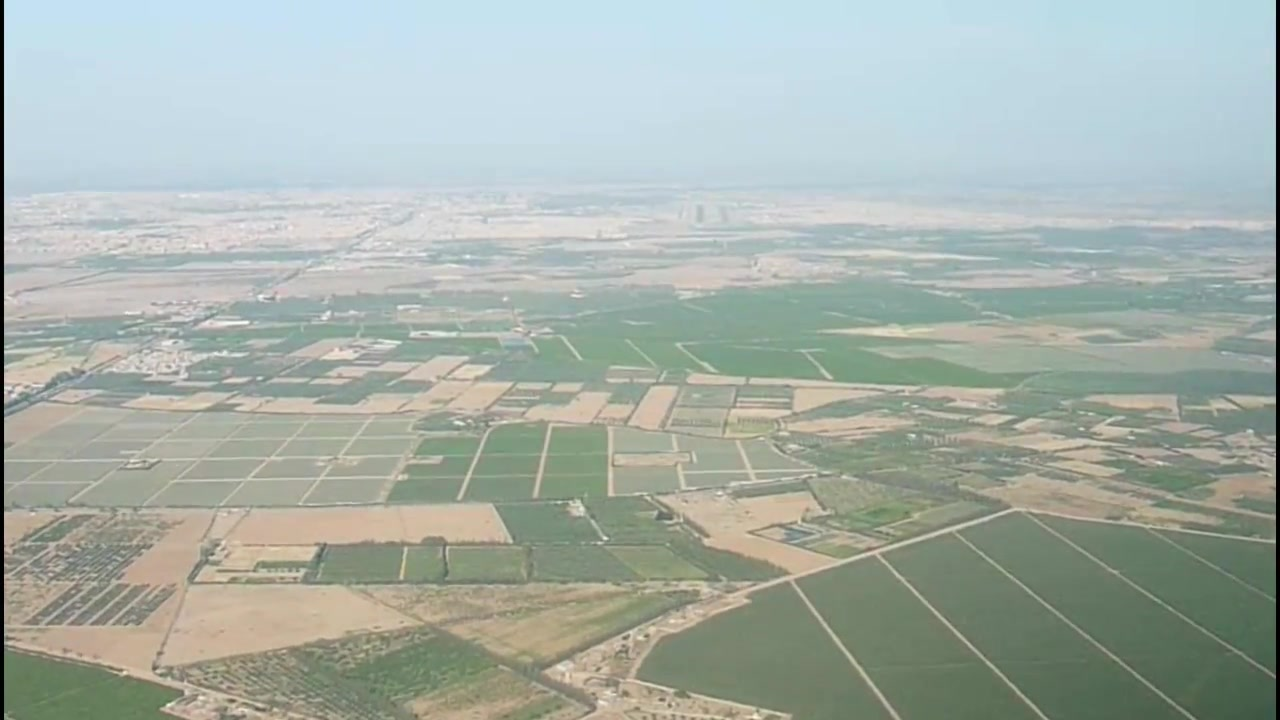runway: (692, 200, 709, 225)
